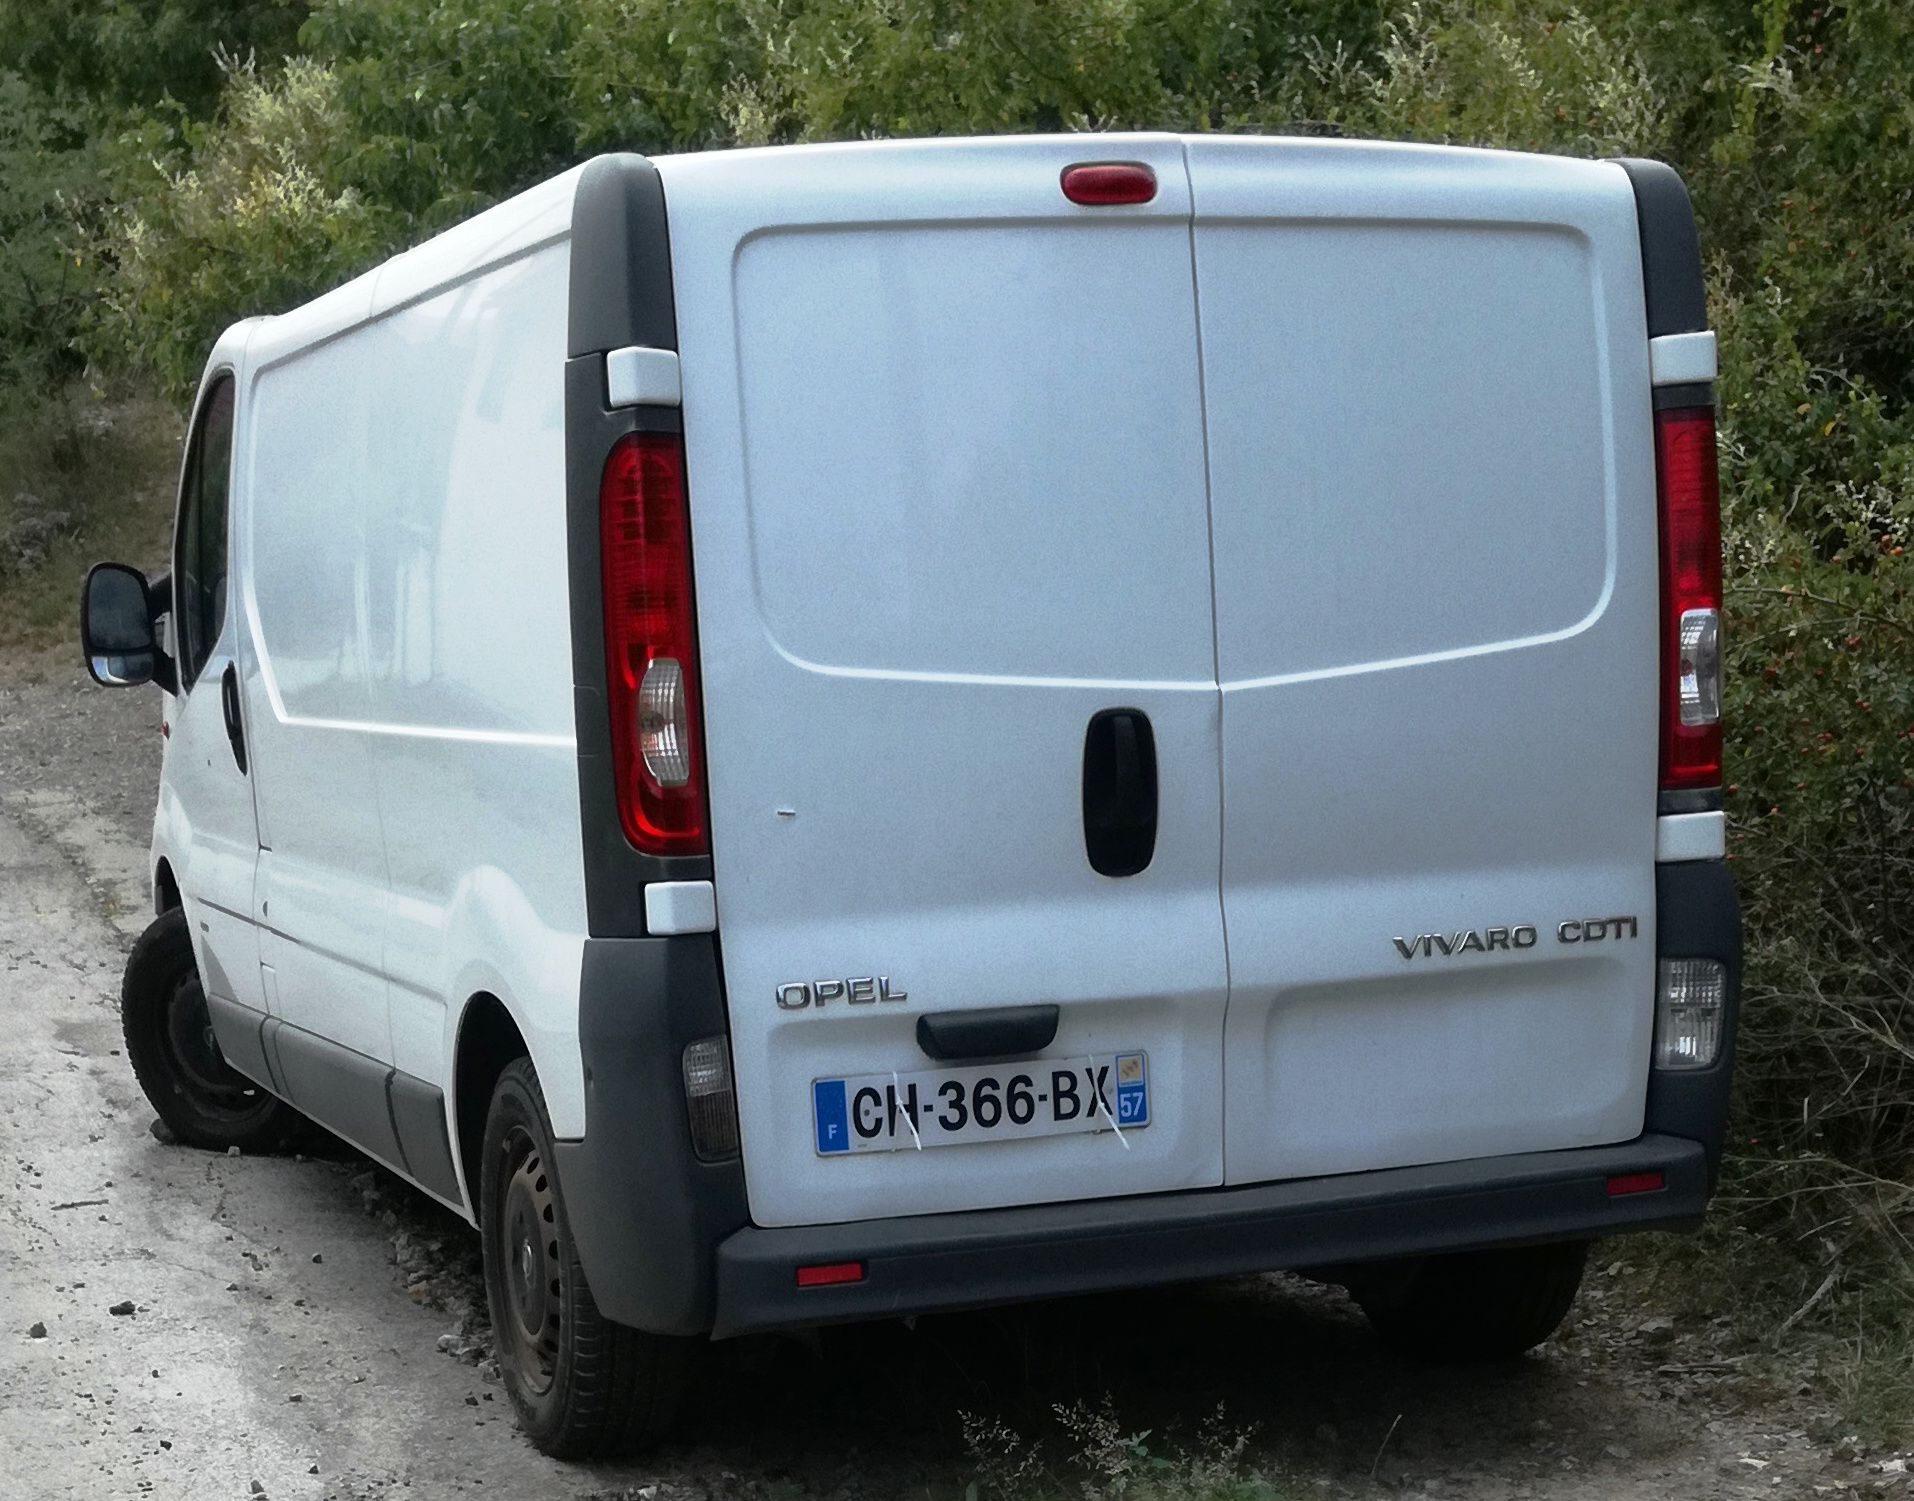licence plate: (807, 1039, 1159, 1165)
